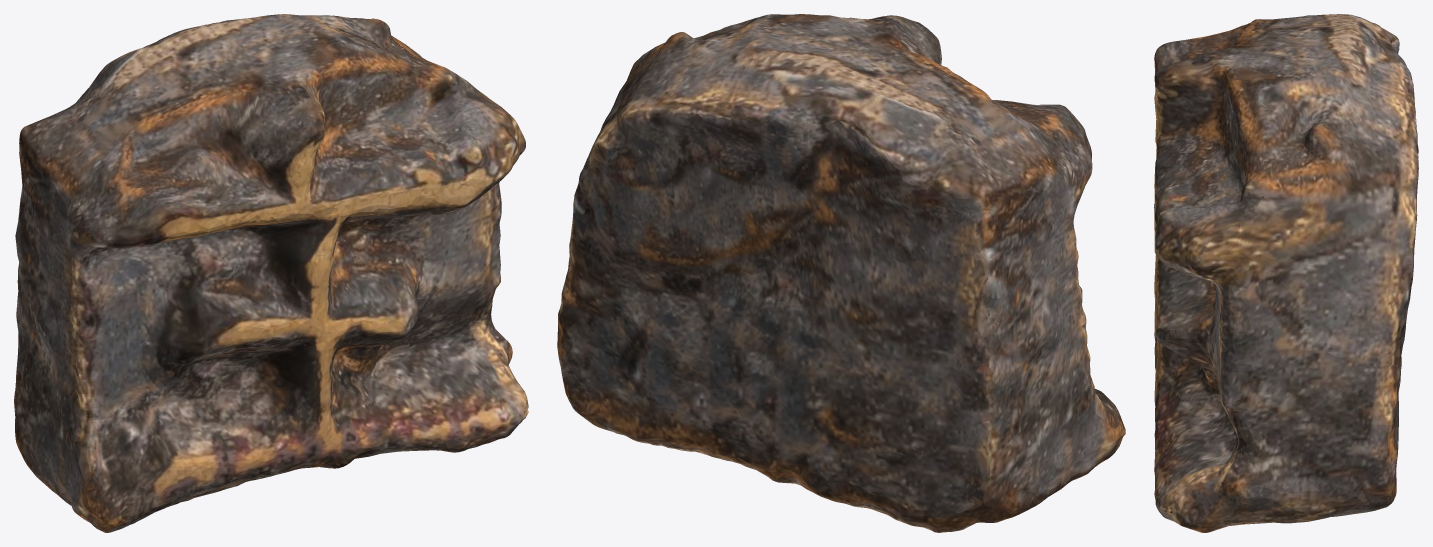
Rendered from jikji_type.glb.
The picture shows the model from 3 angles, left to right: view 1: azimuth 30°, elevation 25°; view 2: azimuth 150°, elevation 25°; view 3: azimuth 270°, elevation 25°; orthographic projection. The views are drawn at different scales.
Visible parts, largest first — view 1: T_39_02_01 - Default_0; view 2: T_39_02_01 - Default_0; view 3: T_39_02_01 - Default_0.
Part boxes in pixels (x1,y1,x2,y2): T_39_02_01 - Default_0: (14,14,528,532); T_39_02_01 - Default_0: (557,14,1125,532); T_39_02_01 - Default_0: (1154,14,1418,532).
Size of the model in its own units: 0.3051 by 0.269 by 0.1586.
1 material, 1 textured.
